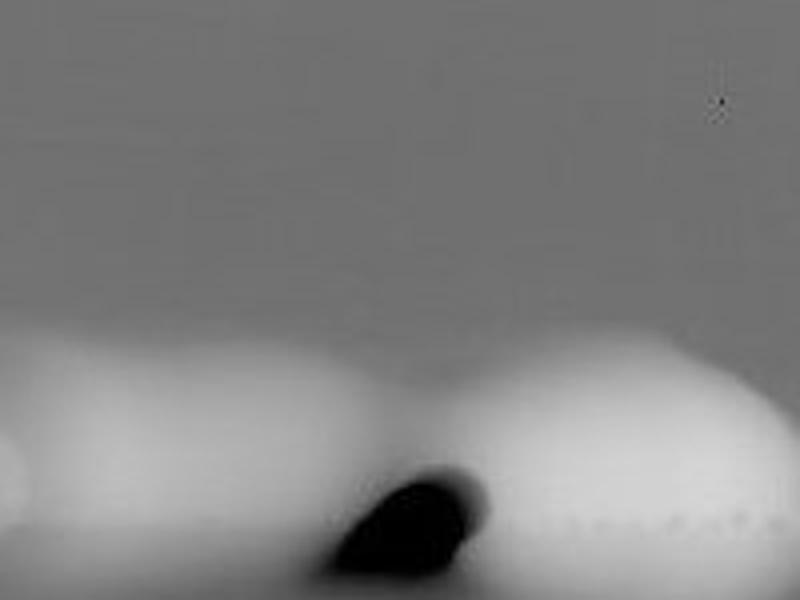defect: (320, 468, 489, 592), (714, 95, 730, 110)
